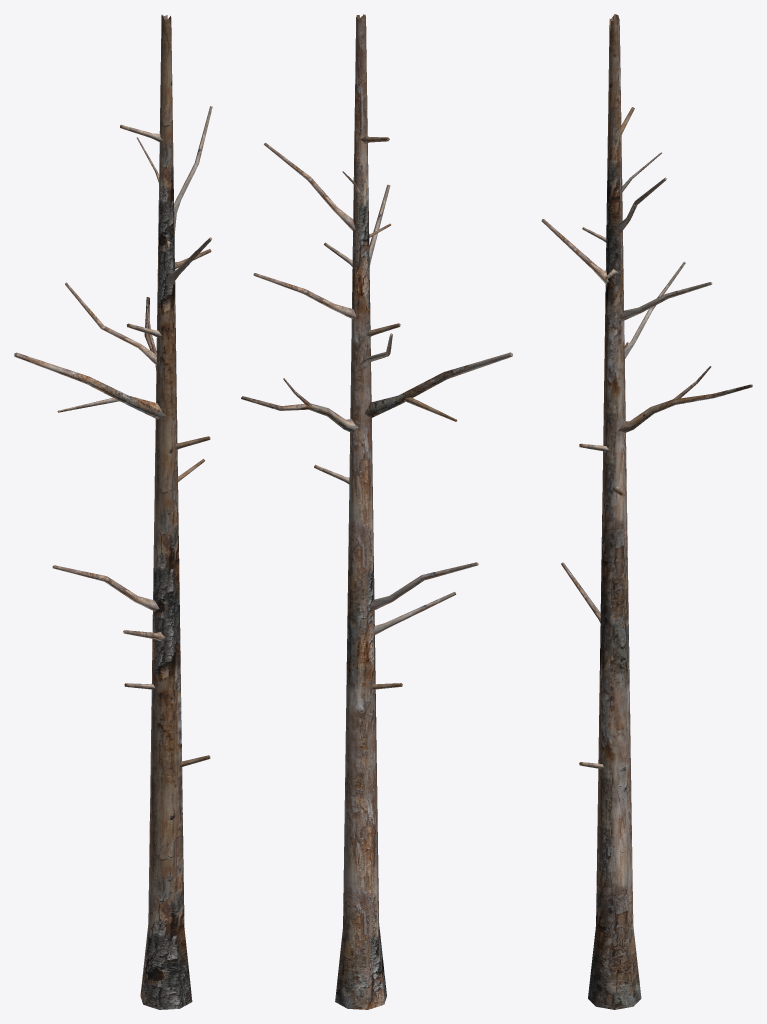
Rendered from trunk2.fbx.
3 renders of one model, left to right at view 1: azimuth 30°, elevation 25°; view 2: azimuth 150°, elevation 25°; view 3: azimuth 270°, elevation 25°, orthographic.
Visible parts, largest first — view 1: polySurface42; view 2: polySurface42; view 3: polySurface42.
Part boxes in pixels (box(x1,y1,x2,y2)): polySurface42: box(14, 14, 212, 1009); polySurface42: box(241, 14, 512, 1009); polySurface42: box(541, 14, 752, 1009).
Bounding box in the file's own units: 5.51 × 23.2 × 4.53.
